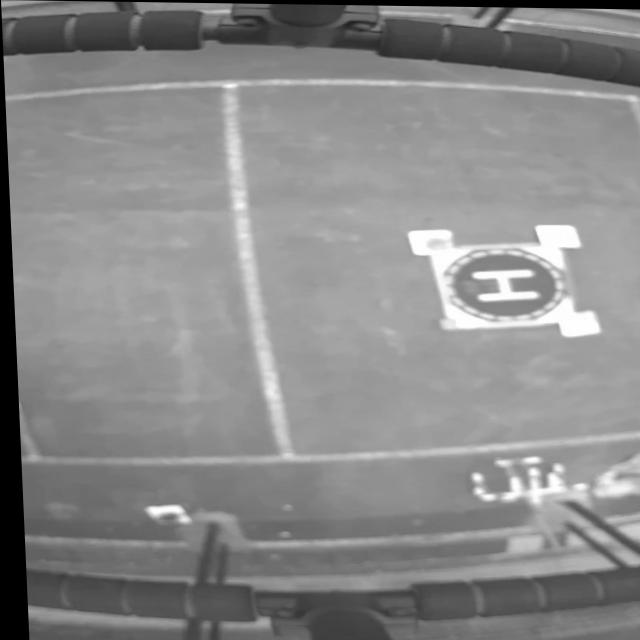Helipad: (468, 267, 536, 302)
